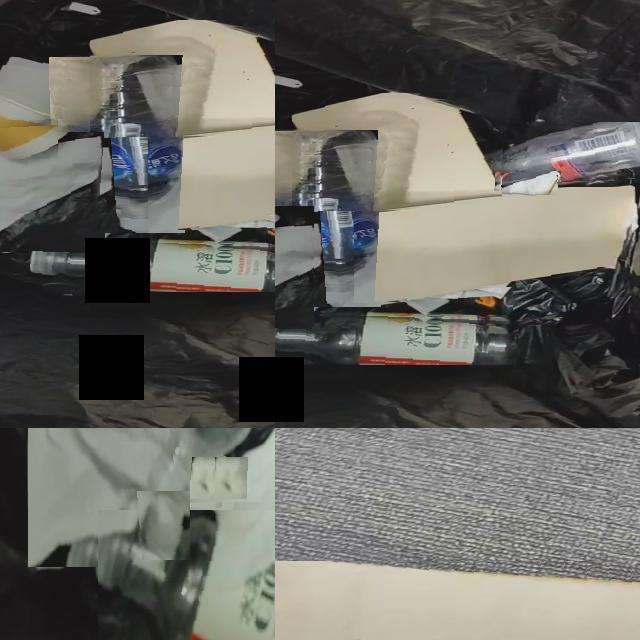bottle: (52, 58, 185, 233), (98, 510, 275, 640), (275, 132, 381, 307), (30, 242, 275, 292), (275, 315, 518, 365), (493, 122, 640, 183)
carton: (354, 187, 635, 303), (275, 561, 640, 640), (292, 93, 502, 211), (90, 20, 275, 138), (148, 128, 275, 230)
dixie_cup: (0, 90, 58, 152)
paper: (28, 428, 186, 567), (0, 141, 103, 237), (0, 57, 62, 119), (140, 491, 190, 560), (408, 287, 512, 314), (200, 219, 275, 242), (215, 458, 247, 499), (502, 175, 558, 196), (528, 186, 548, 191)
